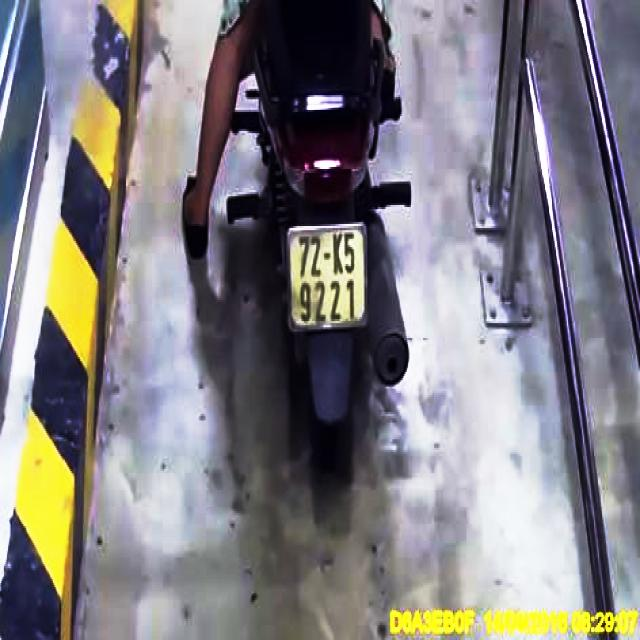license_plate: (288, 223, 369, 329)
